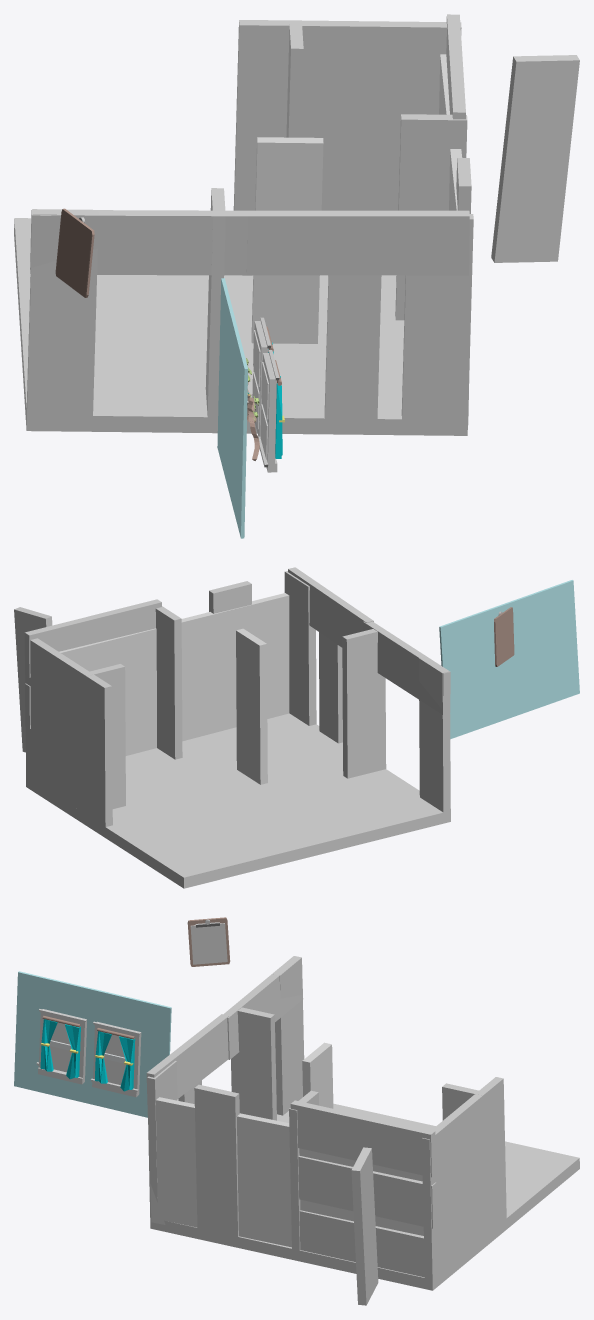
File: casa.fbx
3 renders of one model, top to bottom at view 1: azimuth 30°, elevation 25°; view 2: azimuth 150°, elevation 25°; view 3: azimuth 270°, elevation 25°, orthographic. The views are drawn at different scales.
Visible parts, largest first — view 1: group_1532583683, group_1130898208, group_732929825; view 2: group_1532583683, group_1130898208, group_732929825; view 3: group_1532583683, group_1130898208, group_732929825.
Part boxes in pixels (x1=…): group_1532583683: x1=14, y1=14, x2=579, y2=435; group_1130898208: x1=217, y1=278, x2=284, y2=538; group_732929825: x1=55, y1=208, x2=94, y2=297; group_1532583683: x1=14, y1=567, x2=450, y2=888; group_1130898208: x1=439, y1=580, x2=579, y2=739; group_732929825: x1=494, y1=607, x2=514, y2=666; group_1532583683: x1=146, y1=956, x2=579, y2=1305; group_1130898208: x1=14, y1=971, x2=171, y2=1117; group_732929825: x1=187, y1=917, x2=230, y2=966.
Size of the model in its own units: 1.78 by 0.7546 by 2.02.
